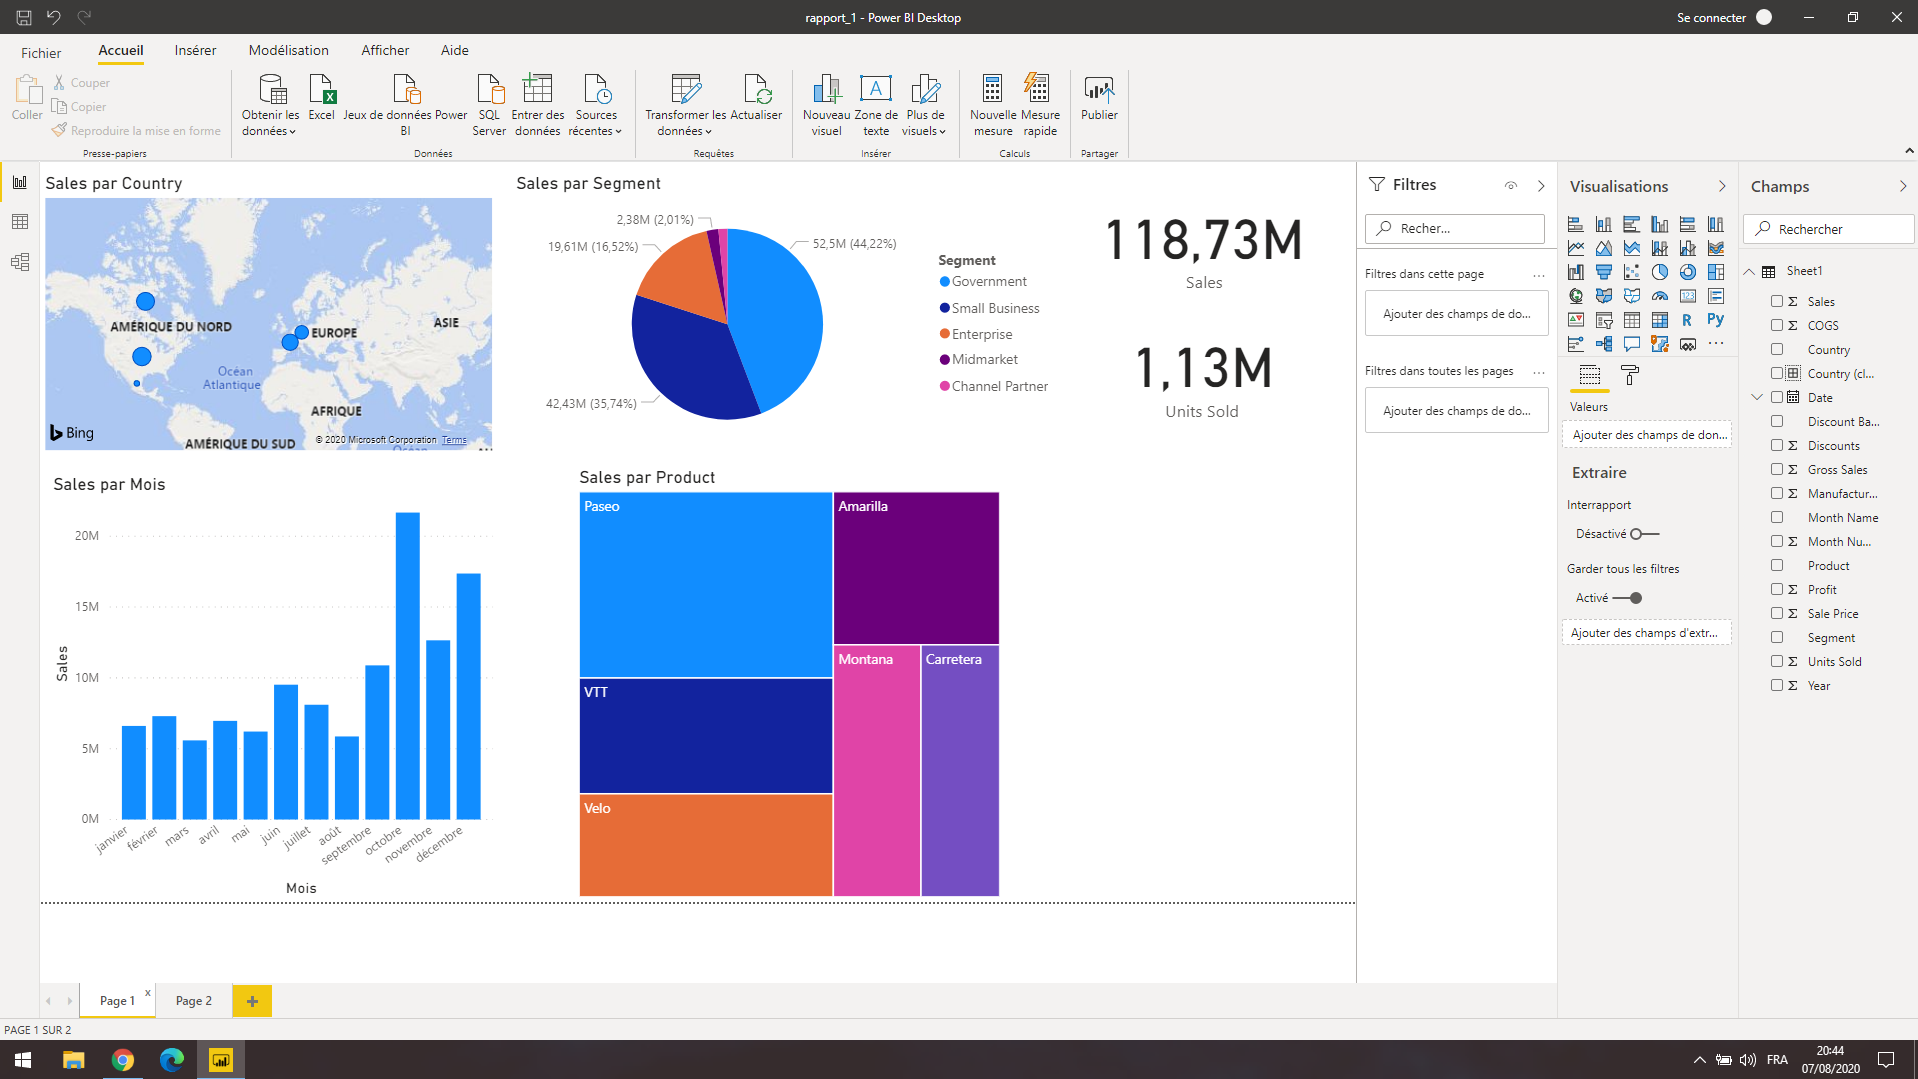

The page's visual inventory and layout, read from the dashboard file:
{"tool":"powerbi","page":{"name":"Page 1","canvas":[1280,720],"ordinal":0},"visuals":[{"type":"pieChart","fields":{"Category":["Sheet1.Segment"],"Y":["Sheet1. Sales"]},"box":[458.1,10.7,542.7,275.3],"z":0},{"type":"card","fields":{"Values":["Sheet1. Sales"]},"box":[970.7,27.2,299.6,111.9],"z":1000},{"type":"card","fields":{"Values":["Sheet1.Units Sold"]},"box":[970.7,186.7,299.6,109.9],"z":2000},{"type":"clusteredColumnChart","fields":{"Category":["Sheet1.Date.Variation.Hiérarchie de dates.Année","Sheet1.Date.Variation.Hiérarchie de dates.Trimestre","Sheet1.Date.Variation.Hiérarchie de dates.Mois","Sheet1.Date.Variation.Hiérarchie de dates.Jour"],"Y":["Sheet1. Sales"]},"box":[0,303.5,437.7,416.3],"z":3000},{"type":"treemap","fields":{"Group":["Sheet1.Product"],"Values":["Sheet1. Sales"]},"box":[437.7,296.7,419.2,423.1],"z":4000},{"type":"map","fields":{"Category":["Sheet1.Country"],"Size":["Sheet1. Sales"]},"box":[0,10.7,445.5,275.3],"z":5000}]}

Visuals, with their boxes on the page's 1280x720 design canvas (x1, y1, x2, y2). These are canvas units, not pixel positions in the 1918x1079 screenshot, which may show the page scaled, cropped or inside an application window:
pieChart - Sheet1.Segment x Sheet1. Sales: x1=458, y1=11, x2=1001, y2=286
card - Sheet1. Sales: x1=971, y1=27, x2=1270, y2=139
card - Sheet1.Units Sold: x1=971, y1=187, x2=1270, y2=297
clusteredColumnChart - Sheet1.Date.Variation.Hiérarchie de dates.Année x Sheet1.Date.Variation.Hiérarchie de dates.Trimestre: x1=0, y1=304, x2=438, y2=720
treemap - Sheet1.Product x Sheet1. Sales: x1=438, y1=297, x2=857, y2=720
map - Sheet1.Country x Sheet1. Sales: x1=0, y1=11, x2=446, y2=286
